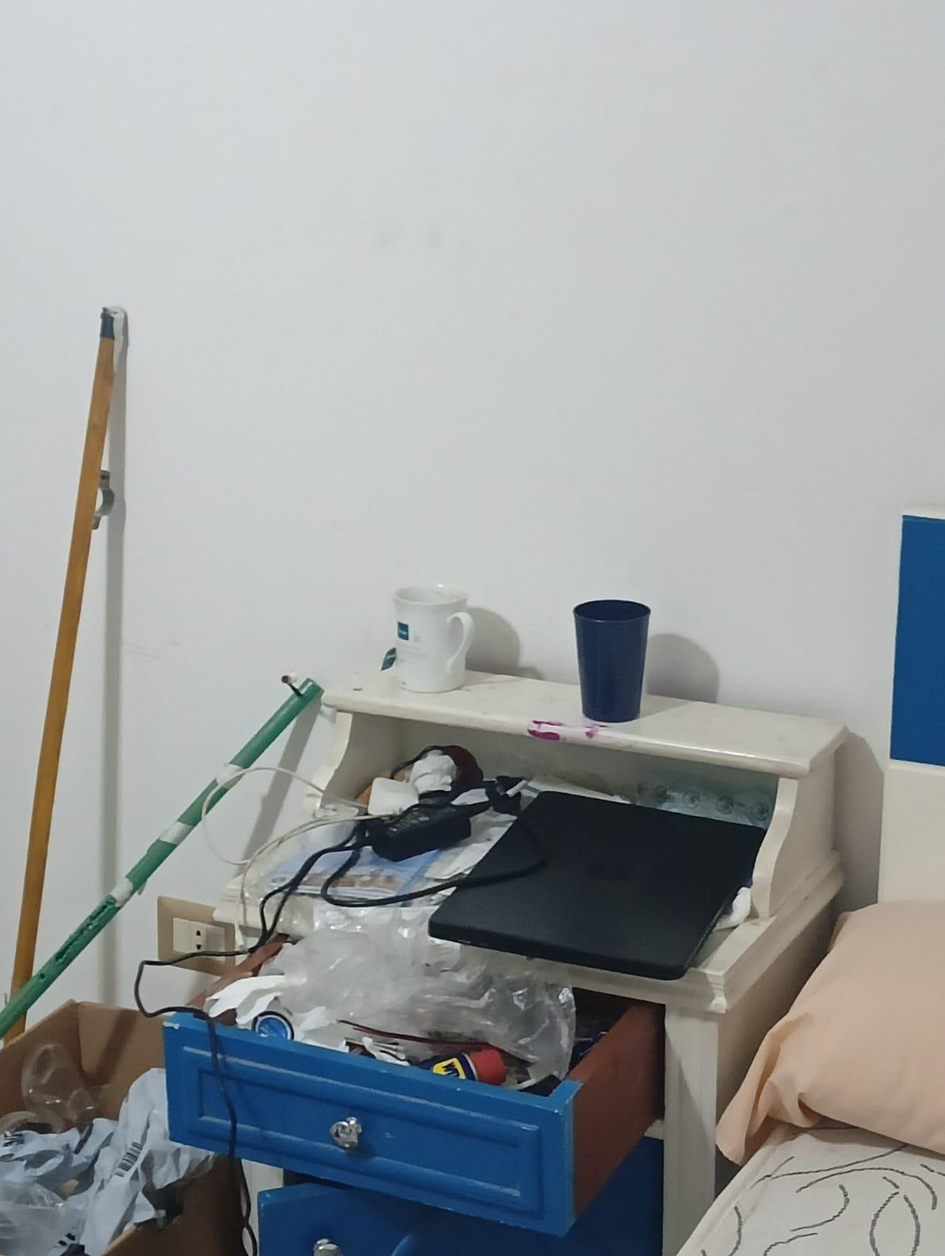cup: (574, 601, 650, 722), (393, 586, 472, 692)
